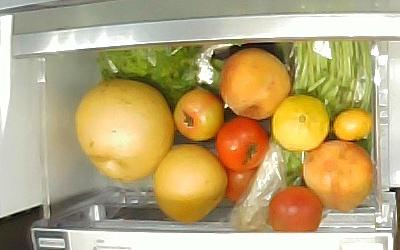peach: (218, 48, 291, 120), (302, 142, 373, 213)
pear: (74, 79, 174, 182), (152, 146, 226, 222)
tangerine: (271, 95, 328, 151), (333, 109, 373, 141)
tomato: (216, 117, 269, 172), (173, 87, 224, 140), (267, 184, 322, 232), (225, 170, 258, 203)
